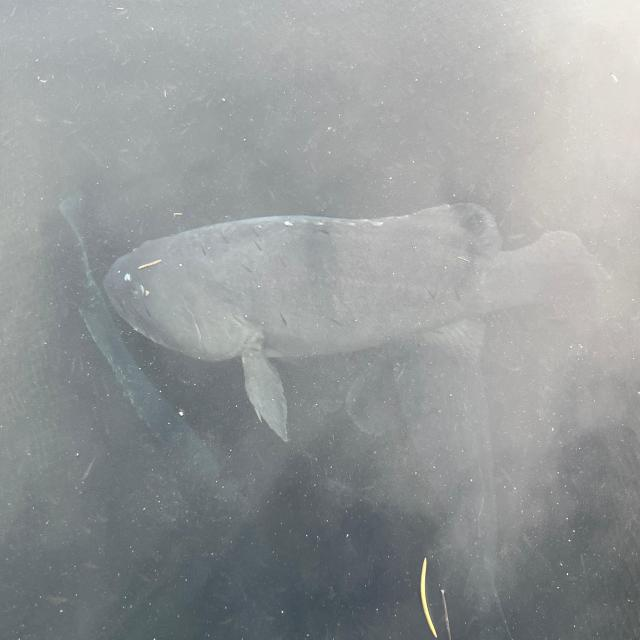ikan: (101, 199, 613, 444)
